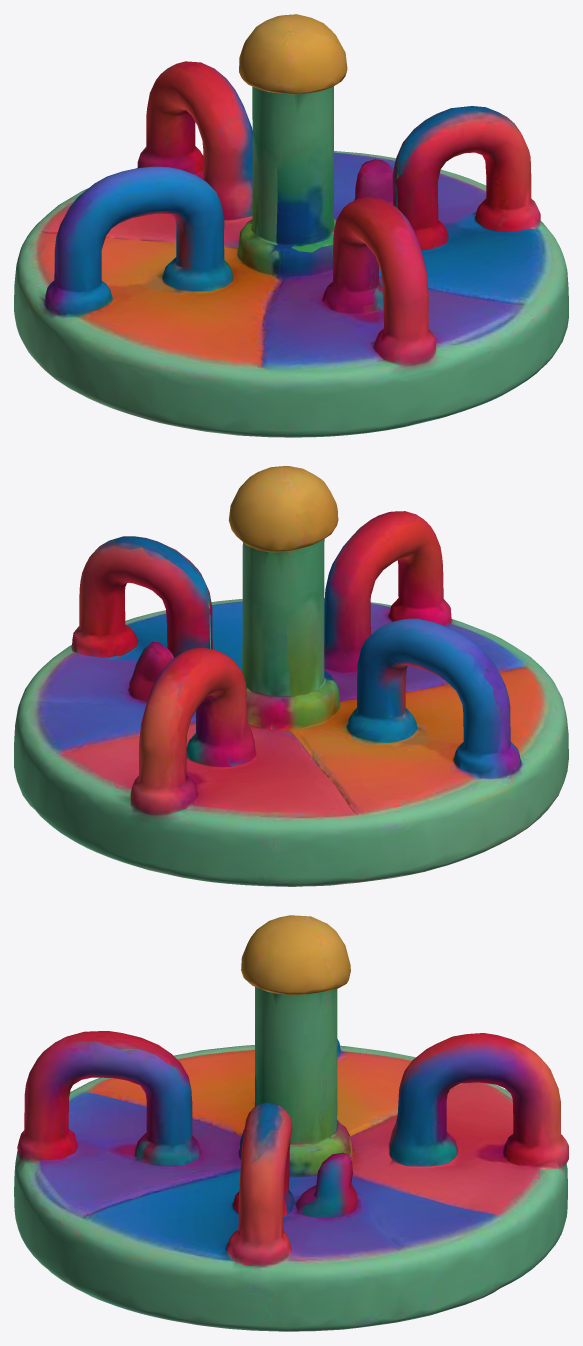
The model's file is merry_go_round.glb.
3 views of the same model, one above another, from view 1: azimuth 30°, elevation 25°; view 2: azimuth 150°, elevation 25°; view 3: azimuth 270°, elevation 25° (orthographic).
Visible parts, largest first — view 1: textured_mesh.obj; view 2: textured_mesh.obj; view 3: textured_mesh.obj.
Part boxes in pixels (bbox=[...]): textured_mesh.obj: bbox=[14, 14, 568, 437]; textured_mesh.obj: bbox=[14, 466, 568, 886]; textured_mesh.obj: bbox=[14, 915, 568, 1331].
Size of what is drawn, in the model's own units: 1.99 by 1.2 by 2.01.
1 material, 1 textured.
